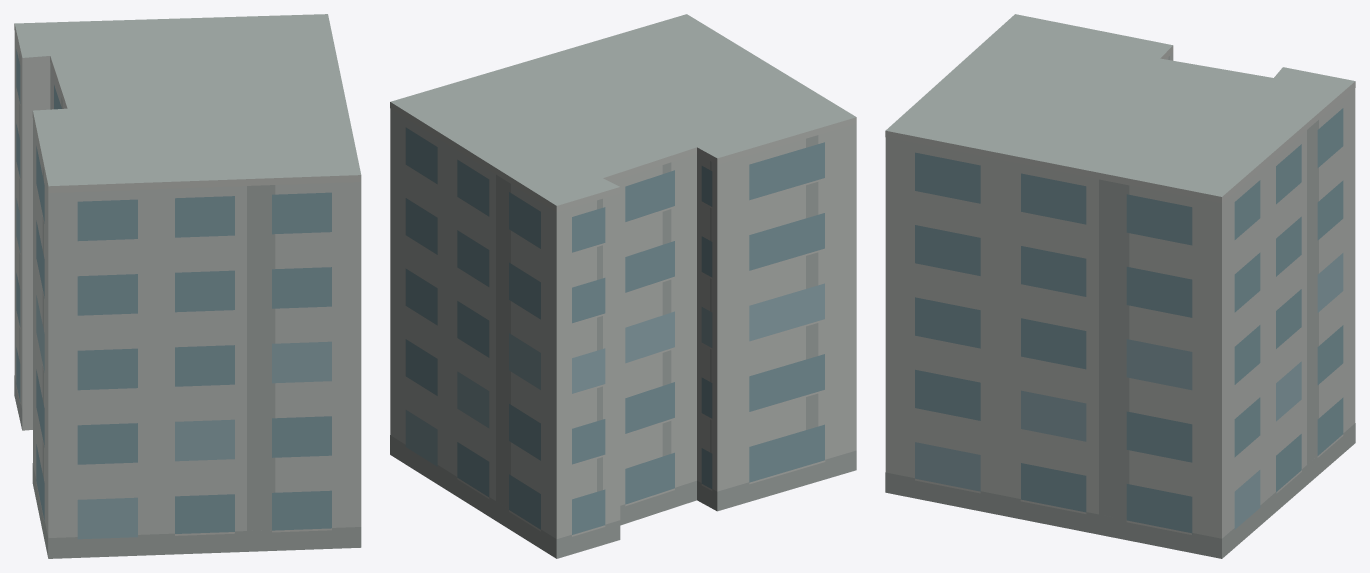
File: survey-upis-33020910.glb
The picture shows the model from 3 angles, left to right: view 1: azimuth 30°, elevation 25°; view 2: azimuth 150°, elevation 25°; view 3: azimuth 270°, elevation 25°; orthographic projection. The views are drawn at different scales.
Visible parts, largest first — view 1: survey-upis-33020910.tmp; view 2: survey-upis-33020910.tmp; view 3: survey-upis-33020910.tmp.
Part boxes in pixels (x1,y1,x2,y2): survey-upis-33020910.tmp: (14, 14, 361, 558); survey-upis-33020910.tmp: (390, 14, 856, 558); survey-upis-33020910.tmp: (885, 14, 1355, 558).
Size of the model in its own units: 14.32 by 13.2 by 15.55.
